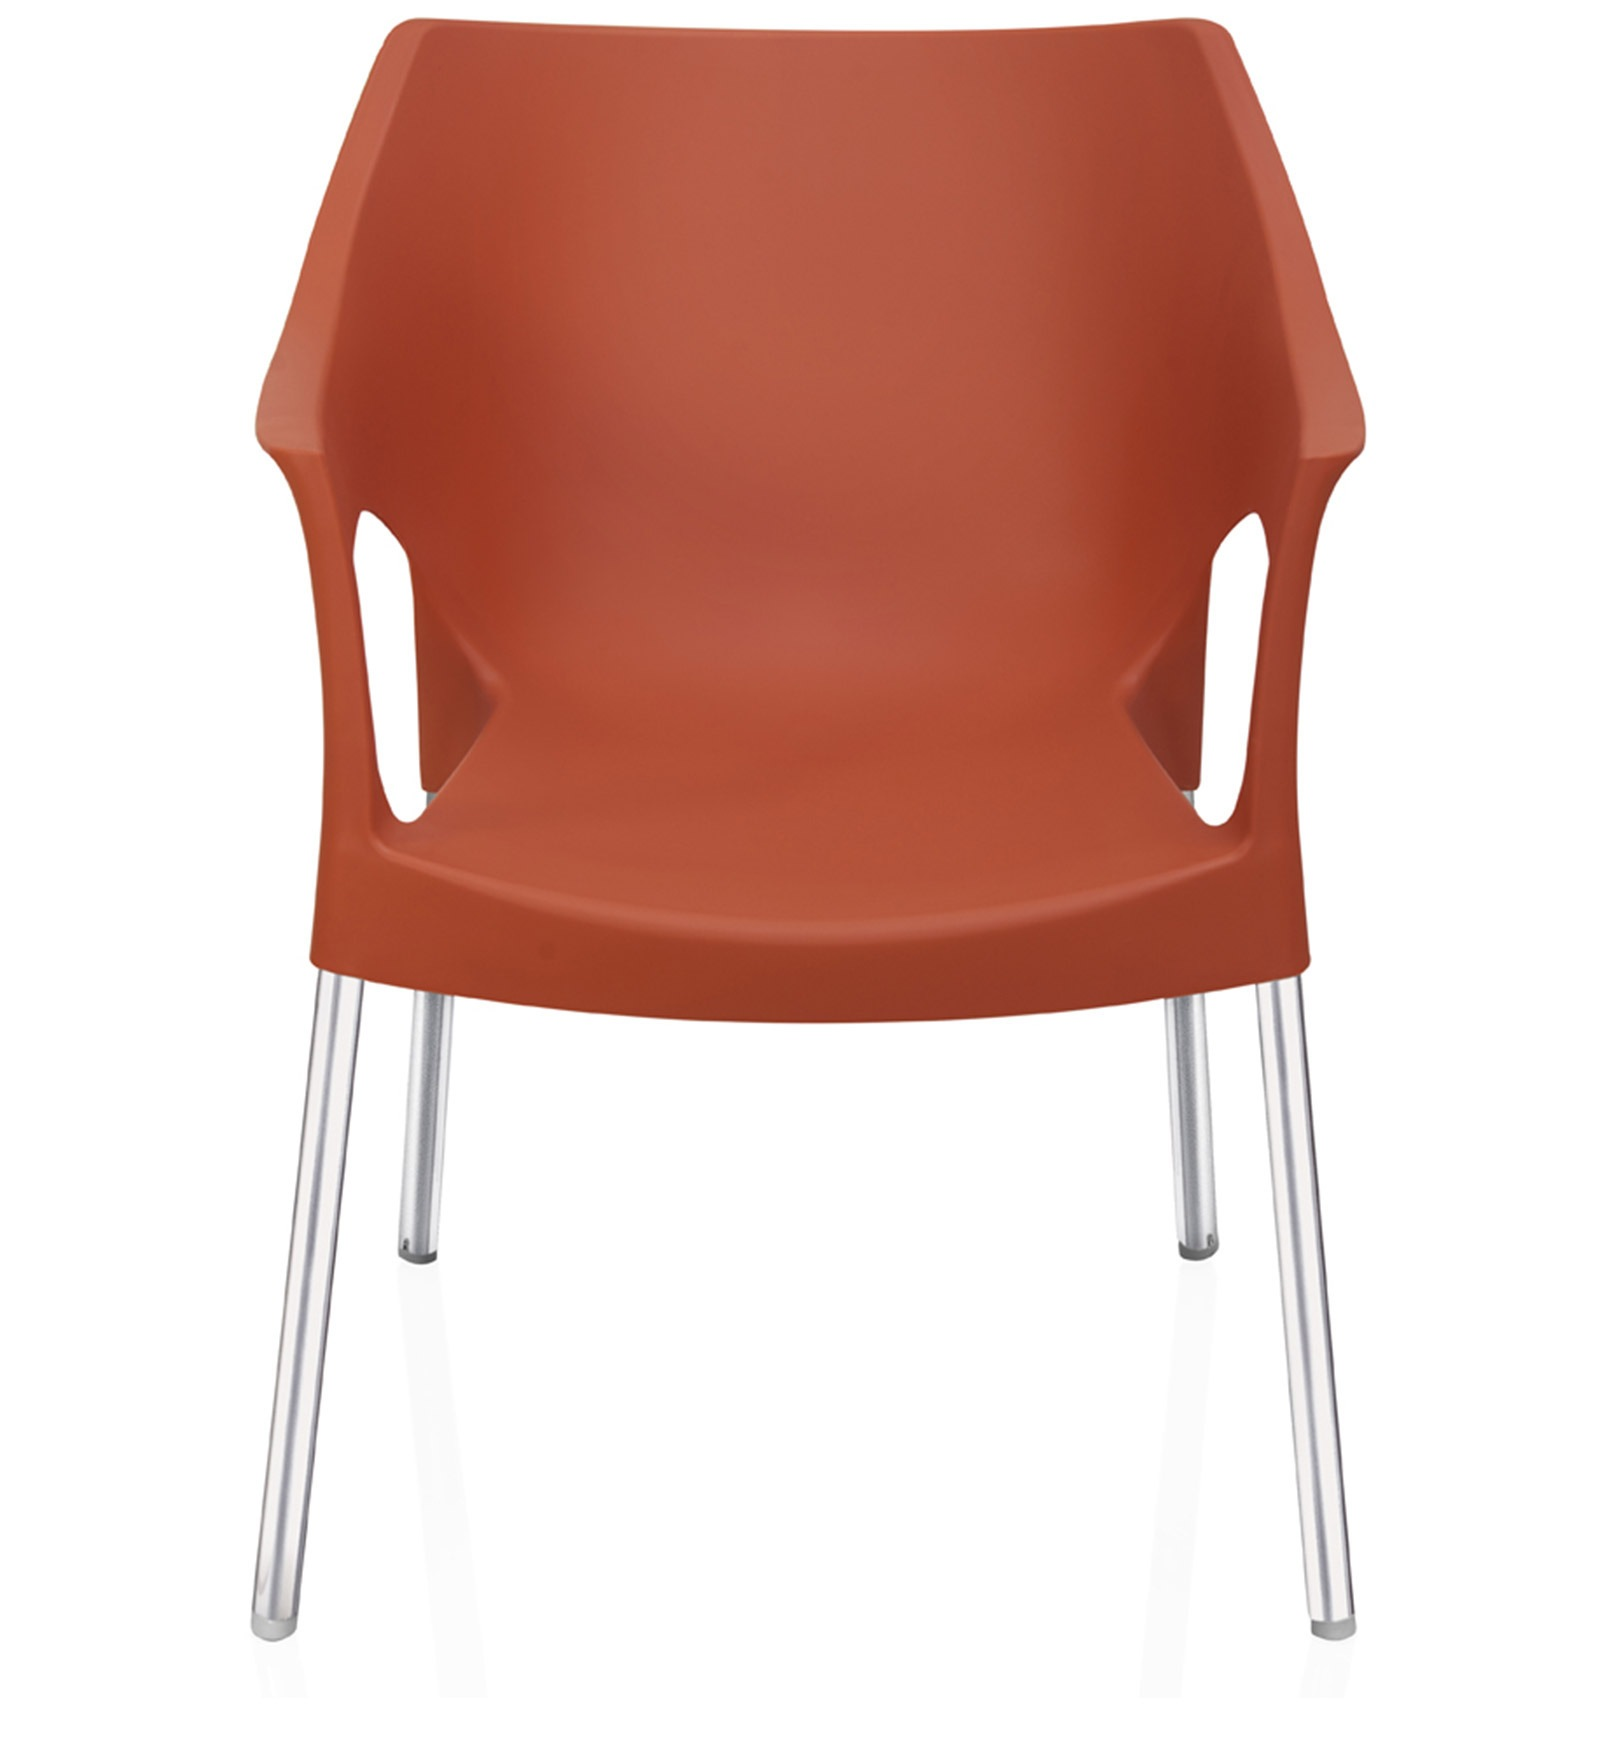Novella Series - 10 Chair (Set of 2) in Rust Colour by Nilkamal: (242, 12, 1379, 1643)
